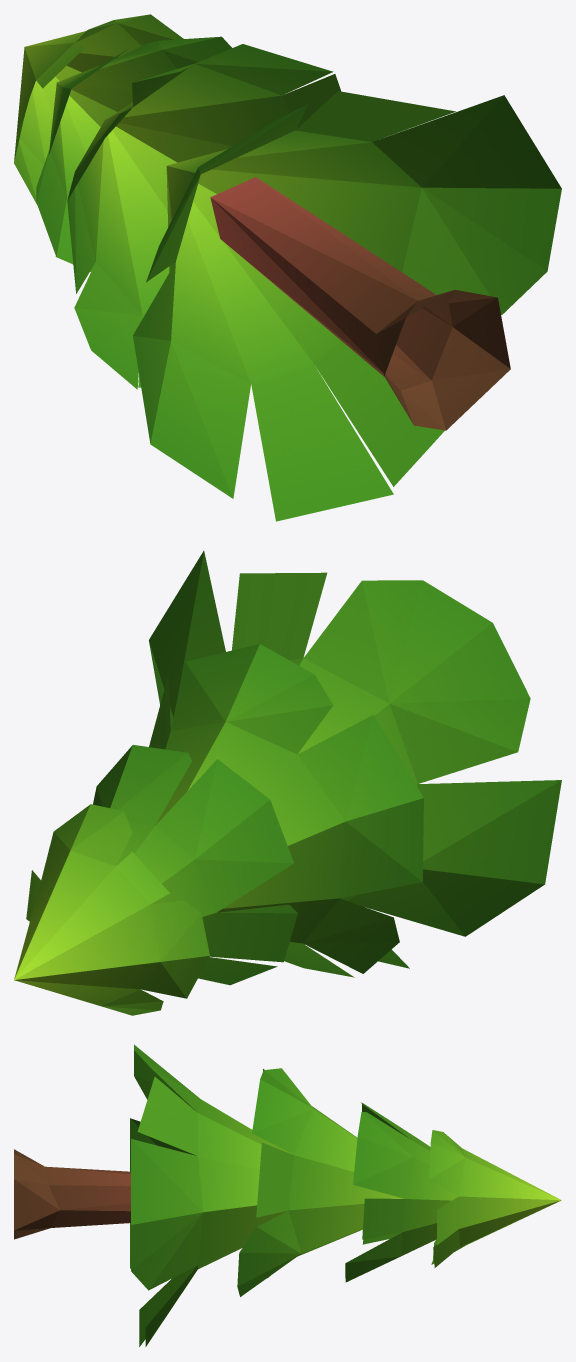
The model's file is Tree1.fbx.
3 renders of one model, top to bottom at view 1: azimuth 30°, elevation 25°; view 2: azimuth 150°, elevation 25°; view 3: azimuth 270°, elevation 25°, orthographic. The views are drawn at different scales.
Visible parts, largest first — view 1: SM_Tree_01; view 2: SM_Tree_01; view 3: SM_Tree_01.
Boxes of the visible parts, x1,y1,x2,y2 form: SM_Tree_01: (14,14,561,521); SM_Tree_01: (14,551,561,1015); SM_Tree_01: (14,1044,561,1346).
Size of the model in its own units: 133 by 120 by 232.
